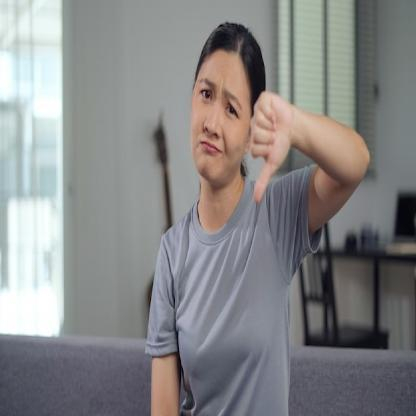thumb_down: (249, 90, 295, 206)
